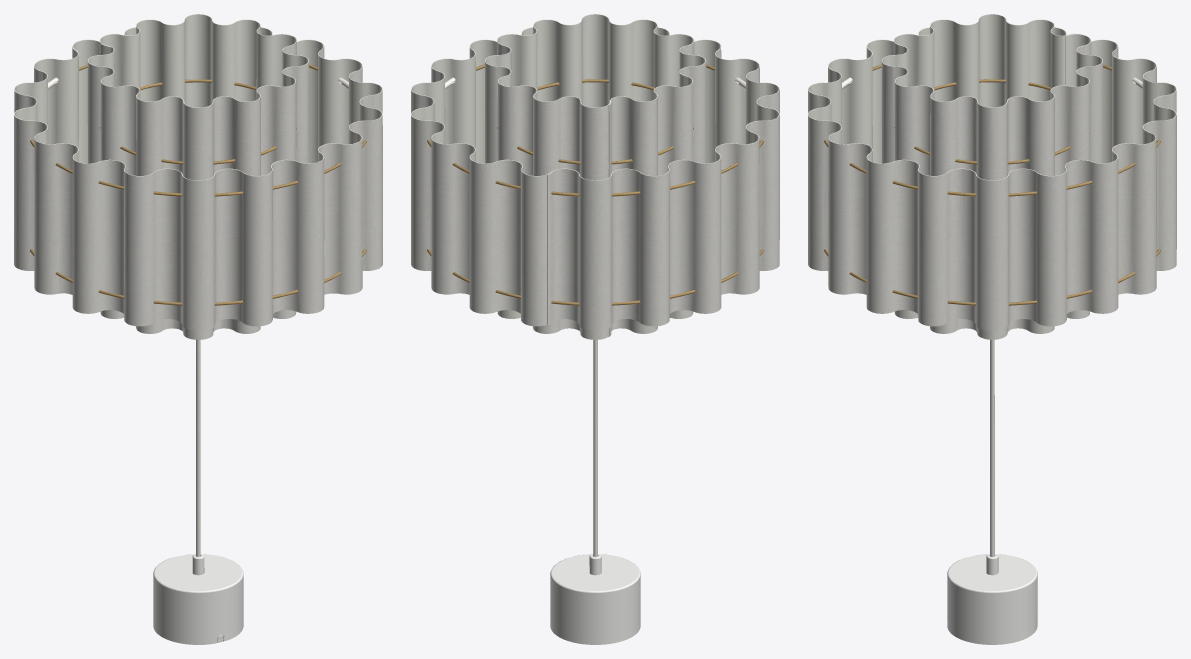
The model's file is stockholm_2025_lampa_wiszaca_90585988.glb.
The picture shows the model from 3 angles, left to right: view 1: azimuth 30°, elevation 25°; view 2: azimuth 150°, elevation 25°; view 3: azimuth 270°, elevation 25°; orthographic projection.
Visible parts, largest first — view 1: stockholm_2025_lampa_wiszaca_90585988; view 2: stockholm_2025_lampa_wiszaca_90585988; view 3: stockholm_2025_lampa_wiszaca_90585988.
Part boxes in pixels (<box>): stockholm_2025_lampa_wiszaca_90585988: <box>14,14,382,644</box>; stockholm_2025_lampa_wiszaca_90585988: <box>411,14,779,644</box>; stockholm_2025_lampa_wiszaca_90585988: <box>808,14,1176,644</box>.
Size of the model in its own units: 0.4973 by 0.8288 by 0.4904.
1 material, 1 textured.
